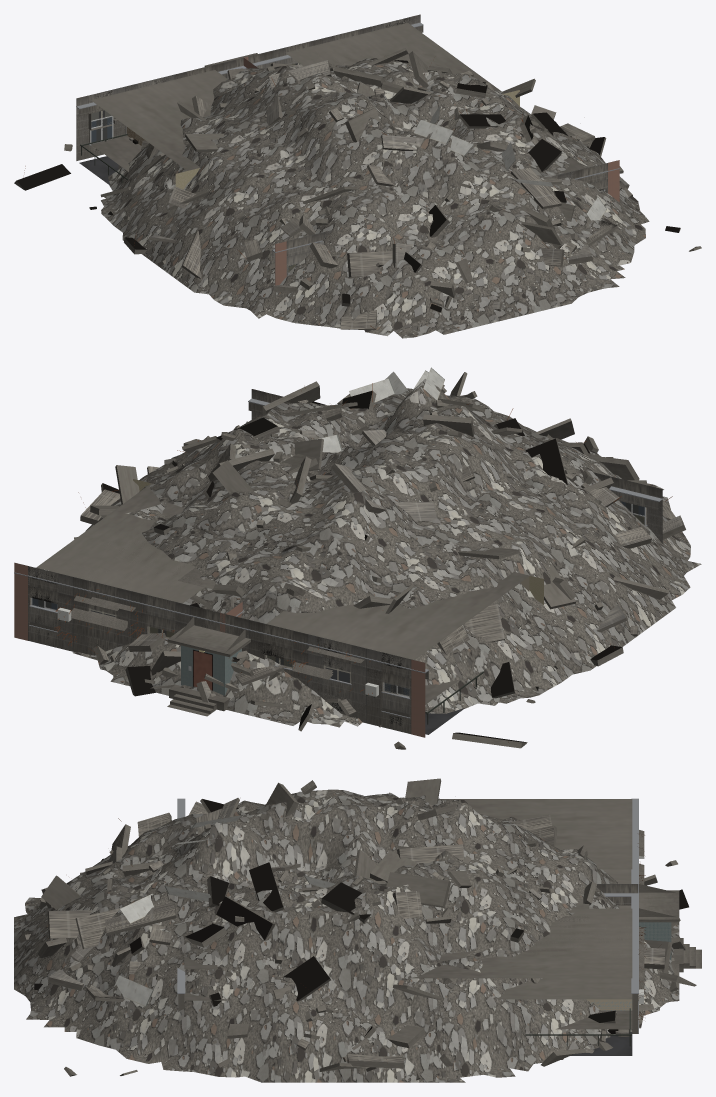
File: bld_tw_t.glb
The picture shows the model from 3 angles, top to bottom: view 1: azimuth 30°, elevation 25°; view 2: azimuth 150°, elevation 25°; view 3: azimuth 270°, elevation 25°; orthographic projection. The views are drawn at different scales.
Visible parts, largest first — view 1: rubble_xl, sec_ground_F_s2c, sec_ground_F_s2a, sec_ground_F_s0, sec_ground_Y_s0, sec_floor0_F_s0, sec_ground_F_s2b, sec_floor0_Y_s0, roof_F, sec_top0_F_s0, sec_top0_Y_s0; view 2: rubble_xl, sec_ground_F_s0, sec_ground_F_s2c, sec_ground_F_s2a, sec_floor0_F_s0, sec_ground_F_s2b, sec_top0_F_s0, sec_floor0_F_s2a, sec_ground_Y_s0, rubble_m, sec_top0_Y_s0, rubble_l (+4 smaller); view 3: rubble_xl, sec_ground_F_s2a, sec_ground_F_s2c, sec_floor0_F_s2a, sec_ground_F_s2b, sec_ground_F_s0, sec_top0_F_s0, roof_F, rubble_l.
Boxes of the visible parts, x1,y1,x2,y2 form: rubble_xl: [14, 48, 701, 338]; sec_ground_F_s2c: [76, 63, 227, 171]; sec_ground_F_s2a: [273, 15, 504, 93]; sec_ground_F_s0: [76, 14, 519, 189]; sec_ground_Y_s0: [176, 90, 619, 285]; sec_floor0_F_s0: [76, 106, 519, 160]; sec_ground_F_s2b: [285, 27, 449, 67]; sec_floor0_Y_s0: [183, 176, 619, 285]; roof_F: [79, 134, 127, 185]; sec_top0_F_s0: [76, 22, 423, 116]; sec_top0_Y_s0: [272, 168, 619, 259]; rubble_xl: [72, 367, 701, 749]; sec_ground_F_s0: [14, 479, 543, 733]; sec_ground_F_s2c: [249, 572, 529, 713]; sec_ground_F_s2a: [28, 483, 194, 643]; sec_floor0_F_s0: [14, 582, 543, 737]; sec_ground_F_s2b: [53, 496, 209, 634]; sec_top0_F_s0: [14, 572, 428, 681]; sec_floor0_F_s2a: [28, 587, 185, 651]; sec_ground_Y_s0: [133, 389, 662, 597]; rubble_m: [125, 634, 340, 709]; sec_top0_Y_s0: [248, 398, 662, 510]; rubble_l: [76, 537, 381, 727]; rubble_xl: [14, 778, 688, 1082]; sec_ground_F_s2a: [408, 916, 646, 1029]; sec_ground_F_s2c: [441, 799, 644, 869]; sec_floor0_F_s2a: [494, 978, 644, 1034]; sec_ground_F_s2b: [439, 908, 644, 1021]; sec_ground_F_s0: [638, 884, 701, 1015]; sec_top0_F_s0: [631, 798, 638, 993]; roof_F: [525, 1008, 632, 1055]; rubble_l: [439, 922, 679, 1066].
Size of what is drawn, in the model's own units: 30.71 by 7.99 by 33.5.
Materials: 1 (1 with a texture image).
